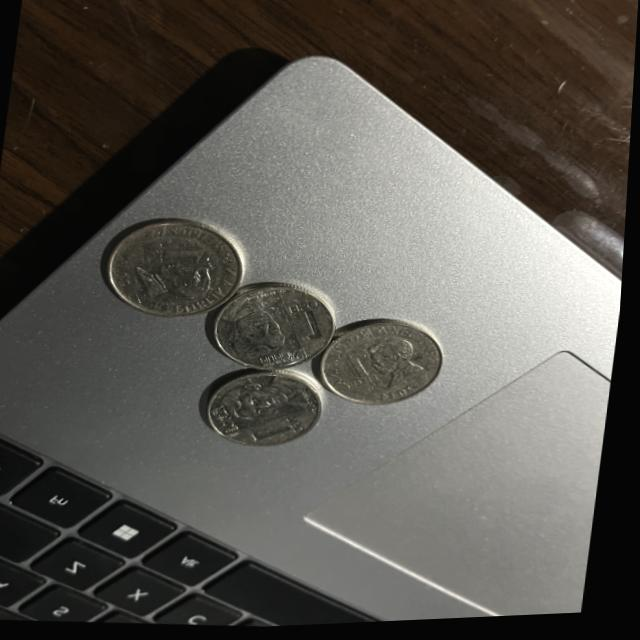1_New_Front: (218, 378, 321, 449), (229, 297, 329, 370)
1_Old_Front: (133, 237, 224, 306), (341, 337, 428, 403)
